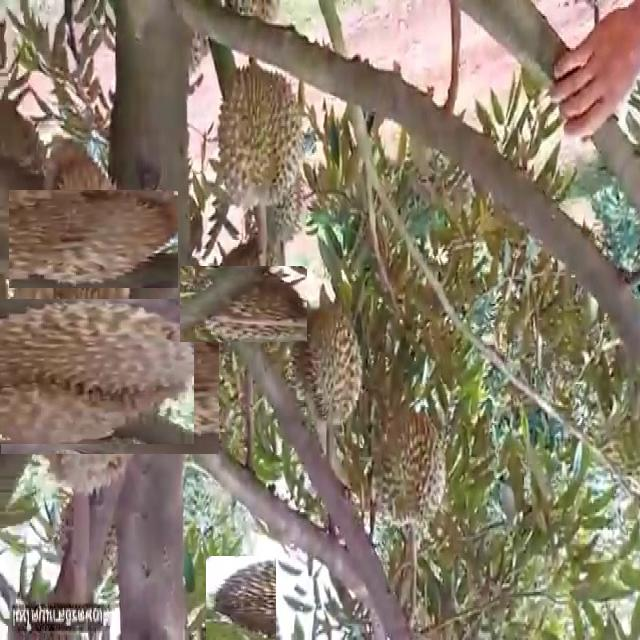durian: (0, 269, 190, 484), (0, 277, 173, 468), (27, 172, 161, 306), (209, 58, 308, 216), (367, 397, 447, 536), (296, 294, 370, 437), (193, 253, 295, 355), (201, 561, 282, 640)
